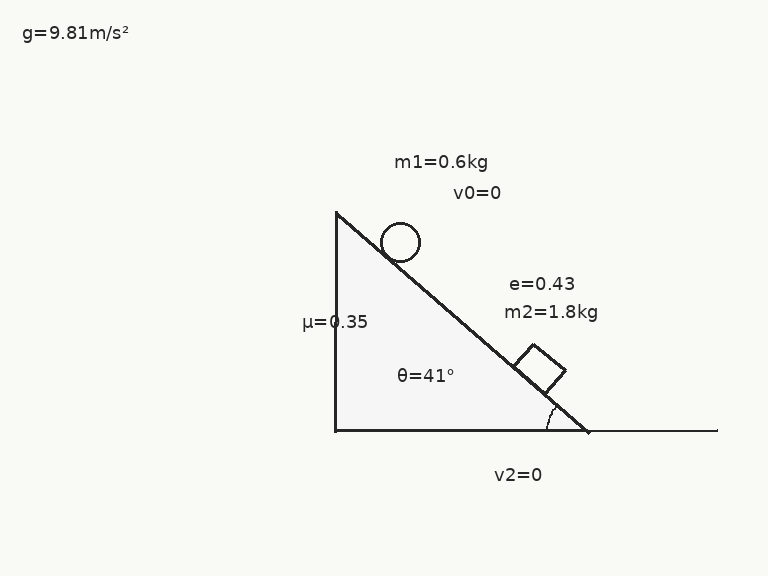ball: (378, 220, 422, 264)
block: (511, 341, 566, 396)
ramp: (334, 211, 589, 433)
